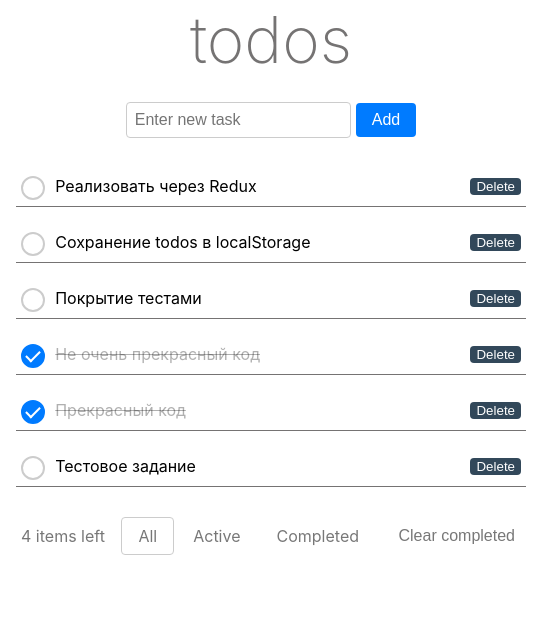
Test: adds a new task
Type "New Task" into the field with placeholder "Enter new task" at (238, 120), box [126,102,351,138]
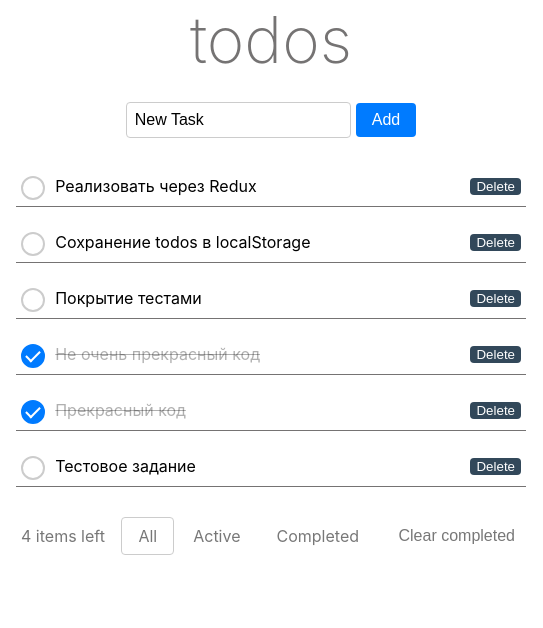
Click the button "Add" at (386, 120), box [356,103,416,137]
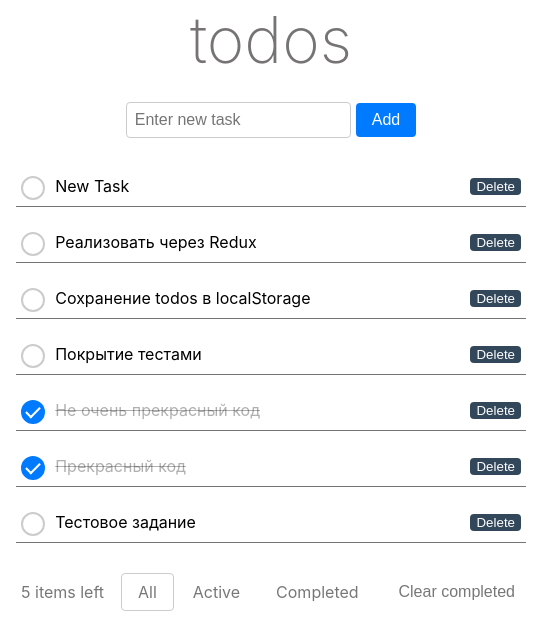
Expected: the text "New Task" is shown, [55,176,129,196]
